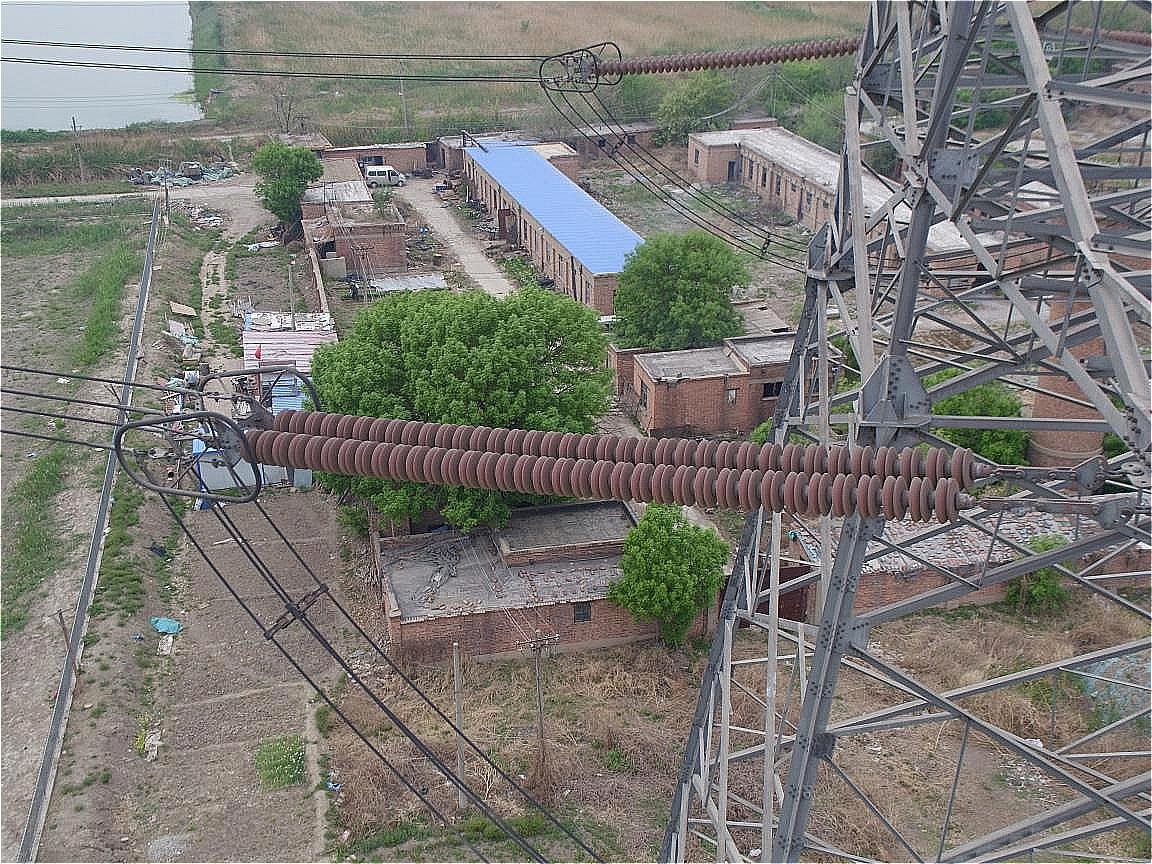insultor2: (221, 395, 1015, 533)
